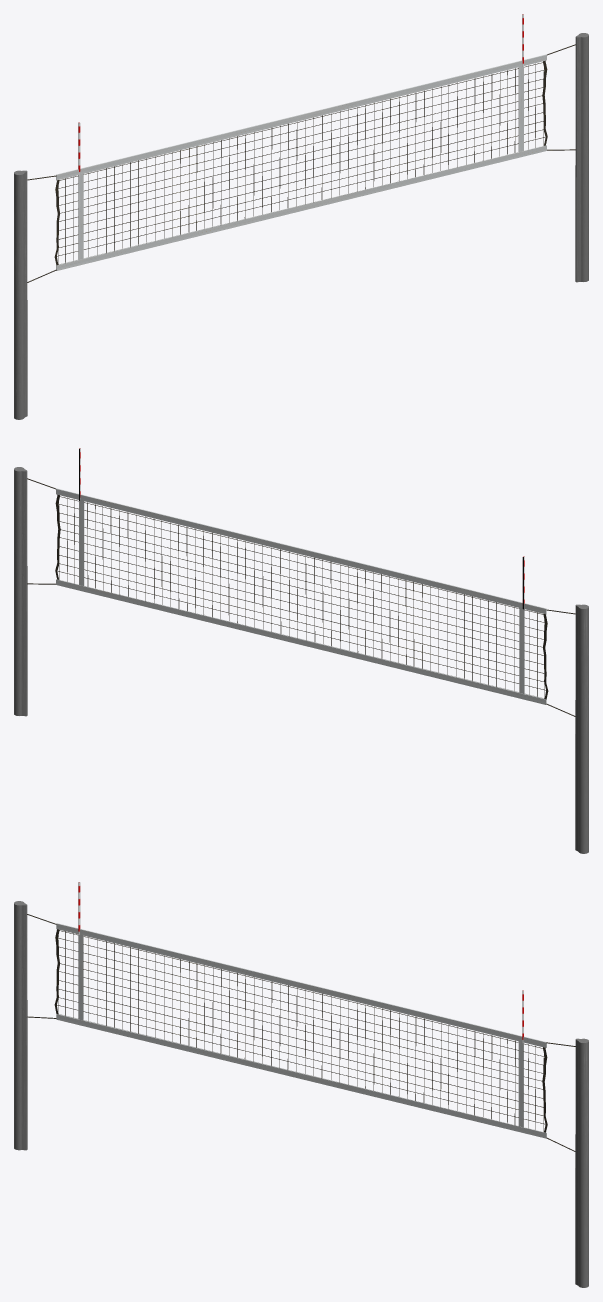
The model's file is volleyball_net.glb.
The picture shows the model from 3 angles, top to bottom: view 1: azimuth 30°, elevation 25°; view 2: azimuth 150°, elevation 25°; view 3: azimuth 330°, elevation 25°; orthographic projection.
Visible parts, largest first — view 1: Cylinder.012, Cylinder.077, Cube.001, Cube.003, Cylinder.009, Cylinder.066, Cylinder.001, Cylinder.004, Cylinder.002, Cylinder.008, Cylinder.007, Cylinder.067 (+3 smaller); view 2: Cylinder.012, Cylinder.077, Cube.001, Cube.003, Cylinder.009, Cylinder.066, Cylinder.001, Cylinder.004, Cylinder.002, Cylinder.008, Cylinder.007, Cylinder.067 (+3 smaller); view 3: Cylinder.077, Cylinder.012, Cube.001, Cube.003, Cylinder.009, Cylinder.003, Cylinder.002, Cylinder.004, Cylinder.066, Cylinder.001, Cylinder.007, Cylinder.008 (+3 smaller).
Part boxes in pixels (x1,y1,x2,y2): Cylinder.012: (14,170,27,419); Cylinder.077: (575,33,588,282); Cube.001: (56,54,546,180); Cube.003: (56,145,546,270); Cylinder.009: (59,121,543,239); Cylinder.066: (56,137,545,256); Cylinder.001: (59,62,542,180); Cylinder.004: (59,129,543,247); Cylinder.002: (58,70,543,188); Cylinder.008: (59,112,542,230); Cylinder.007: (59,103,543,221); Cylinder.067: (58,146,543,264); Cylinder.012: (575,604,588,853); Cylinder.077: (14,467,27,716); Cube.001: (56,488,546,614); Cube.003: (56,579,546,704); Cylinder.009: (59,555,543,673); Cylinder.066: (57,571,546,690); Cylinder.001: (60,496,543,614); Cylinder.004: (59,563,543,681); Cylinder.002: (59,504,544,622); Cylinder.008: (60,546,543,664); Cylinder.007: (59,537,543,655); Cylinder.067: (59,580,544,698); Cylinder.077: (575,1038,588,1287); Cylinder.012: (14,901,27,1150); Cube.001: (56,923,546,1047); Cube.003: (56,1014,546,1138); Cylinder.009: (58,989,543,1107); Cylinder.003: (59,946,542,1064); Cylinder.002: (58,938,544,1056); Cylinder.004: (58,997,543,1115); Cylinder.066: (57,1005,545,1124); Cylinder.001: (59,930,542,1048); Cylinder.007: (59,971,543,1089); Cylinder.008: (59,980,542,1098).
Size of the model in its own units: 56.79 by 26.52 by 0.8952.
Materials: 7 (6 with a texture image).
